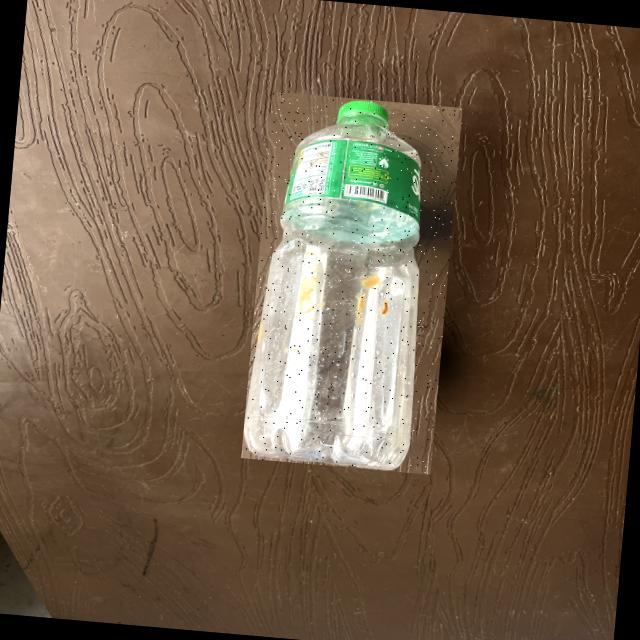REJECT: (241, 90, 462, 473)
